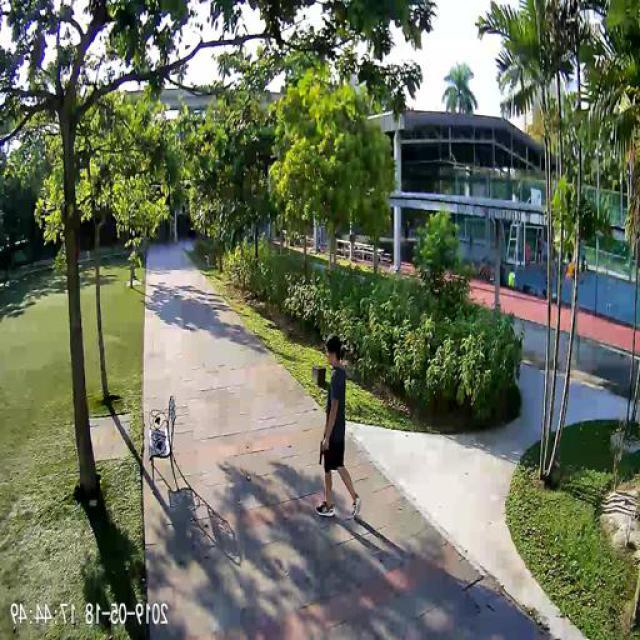Gun: (320, 439, 329, 465)
